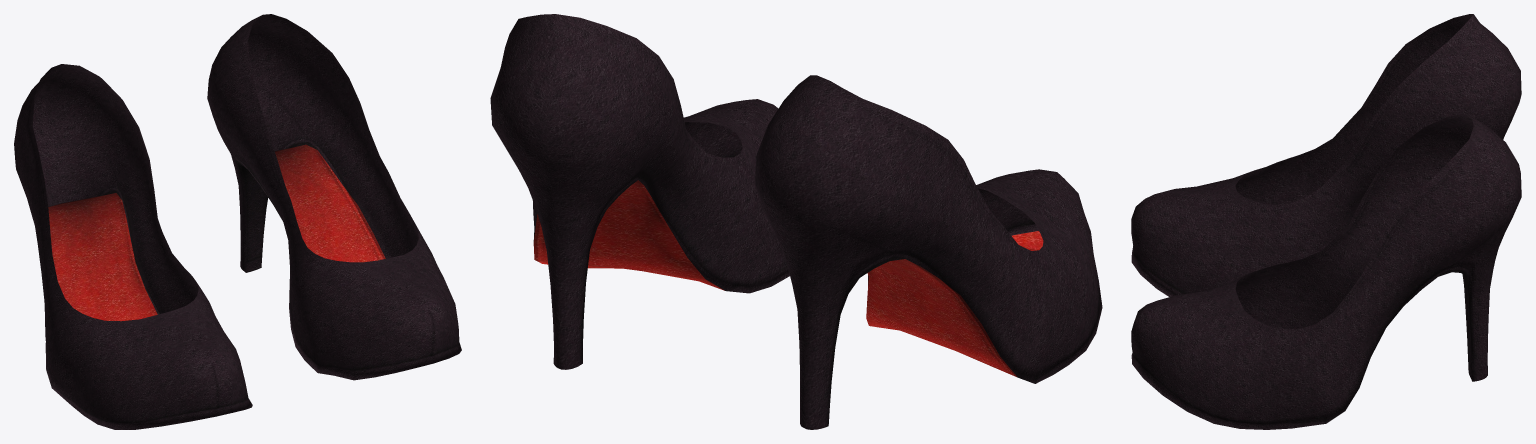
Rendered from highheels.obj.
3 views of the same model, side by side, from view 1: azimuth 30°, elevation 25°; view 2: azimuth 150°, elevation 25°; view 3: azimuth 270°, elevation 25° (orthographic). The views are drawn at different scales.
Parts seen in each view (by area): view 1: High-Heels; view 2: High-Heels; view 3: High-Heels.
Part boxes in pixels (bbox=[...]): High-Heels: bbox=[14, 14, 461, 429]; High-Heels: bbox=[490, 14, 1102, 429]; High-Heels: bbox=[1131, 14, 1521, 429].
Size of the model in its own units: 26.53 by 17.81 by 23.14.
